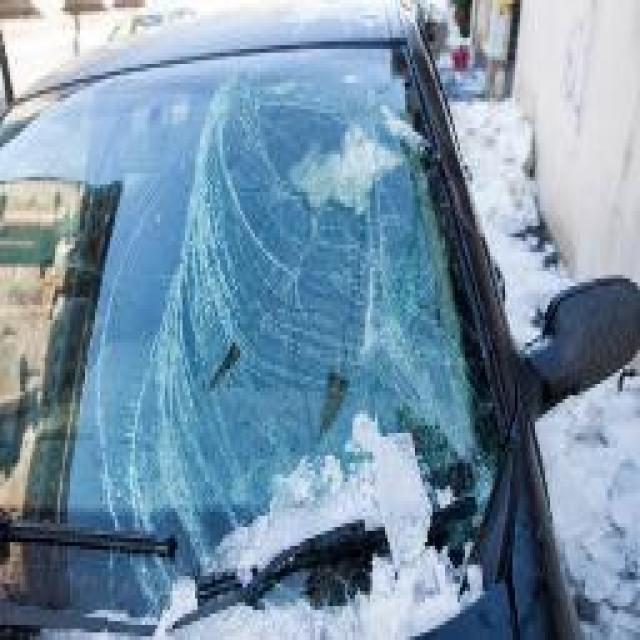Windshield: (82, 49, 482, 621)
